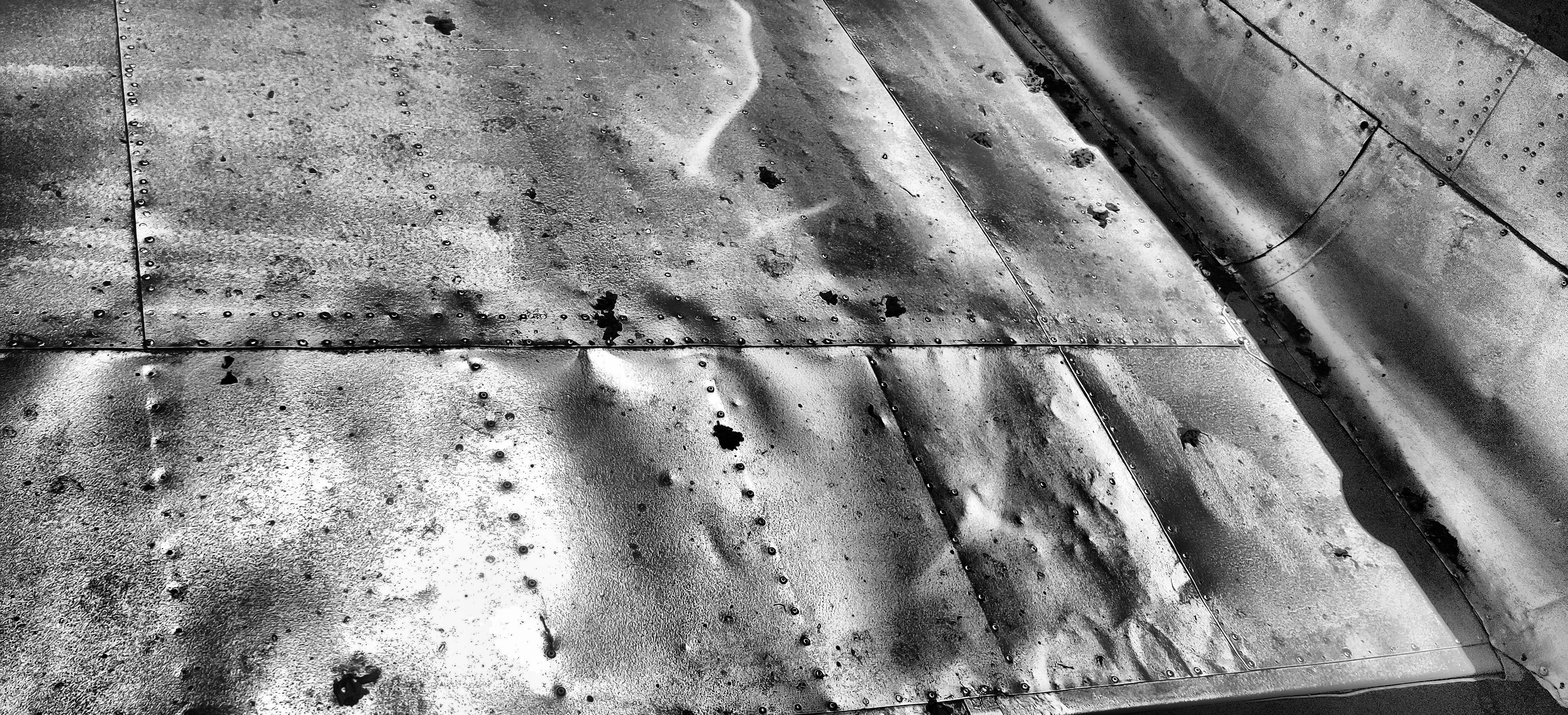crack: (540, 616, 555, 649), (994, 688, 1008, 697)
dent: (1108, 609, 1202, 681), (926, 490, 975, 568), (1075, 475, 1129, 529), (577, 347, 607, 380), (1528, 593, 1567, 613)
missing-head: (1359, 120, 1369, 129), (175, 627, 184, 636), (1349, 424, 1358, 433), (1521, 651, 1528, 662), (171, 587, 179, 595), (179, 669, 188, 676), (166, 550, 174, 557), (249, 312, 257, 318), (151, 404, 159, 410), (1559, 681, 1565, 689), (160, 475, 167, 481), (164, 510, 170, 517), (155, 440, 163, 445), (1501, 641, 1507, 647), (226, 340, 233, 345), (547, 339, 554, 344), (147, 372, 155, 376), (437, 219, 444, 223), (452, 265, 457, 270), (640, 315, 645, 320), (749, 316, 754, 321), (864, 316, 869, 321), (275, 340, 281, 344), (412, 314, 418, 318), (394, 339, 398, 344), (941, 318, 945, 323), (940, 161, 944, 166), (899, 101, 904, 105), (1390, 648, 1395, 652), (1275, 659, 1279, 664), (1199, 580, 1203, 585), (1154, 500, 1157, 506), (783, 317, 787, 321), (921, 339, 925, 343), (875, 339, 879, 343), (721, 339, 725, 343), (757, 339, 761, 343), (832, 274, 836, 278), (1056, 319, 1060, 323), (1082, 319, 1086, 323), (1110, 319, 1114, 323), (1184, 339, 1188, 343), (1026, 282, 1030, 286), (994, 233, 998, 237), (960, 184, 964, 188), (939, 153, 943, 157), (1098, 403, 1102, 407), (1020, 134, 1024, 138), (908, 109, 912, 113), (862, 48, 866, 52), (993, 99, 997, 103), (990, 57, 994, 61), (1233, 339, 1237, 343), (1368, 650, 1372, 654), (1239, 650, 1243, 654), (1139, 475, 1143, 479), (792, 339, 795, 344), (1081, 261, 1086, 264), (1085, 380, 1088, 385), (1190, 567, 1193, 572), (911, 317, 914, 321), (843, 339, 846, 343), (967, 339, 971, 342), (1160, 339, 1163, 343), (1104, 291, 1107, 295), (1019, 220, 1023, 223), (1054, 220, 1058, 223), (1089, 220, 1093, 223), (1015, 267, 1019, 270), (1004, 250, 1008, 253), (972, 201, 976, 204), (962, 192, 965, 196), (950, 168, 953, 172), (953, 128, 956, 132), (881, 74, 884, 78), (861, 42, 865, 45), (959, 53, 962, 57), (983, 86, 986, 90), (1003, 133, 1006, 137), (899, 94, 902, 98), (1322, 655, 1325, 659), (1221, 622, 1224, 626), (1216, 609, 1219, 613), (1175, 540, 1178, 544), (1141, 674, 1144, 678), (1159, 514, 1162, 518), (1161, 497, 1165, 500), (1274, 493, 1277, 497), (1296, 492, 1299, 496), (1317, 491, 1321, 494), (1338, 490, 1342, 493), (1359, 487, 1362, 491), (986, 318, 989, 321), (1025, 339, 1028, 342), (1016, 274, 1019, 277), (927, 50, 930, 53), (1003, 113, 1006, 116), (1037, 136, 1040, 139), (1058, 183, 1061, 186), (878, 68, 881, 71), (889, 81, 892, 84), (853, 30, 856, 33), (845, 24, 848, 27), (938, 27, 941, 30), (930, 17, 933, 20), (923, 8, 926, 11), (1184, 497, 1187, 500), (1207, 497, 1210, 500), (1230, 496, 1233, 499), (1252, 495, 1255, 498), (1122, 220, 1126, 222), (996, 242, 998, 246), (877, 44, 881, 46), (895, 45, 897, 49), (912, 48, 914, 51), (975, 57, 978, 59), (946, 36, 948, 39), (1435, 642, 1437, 645)
